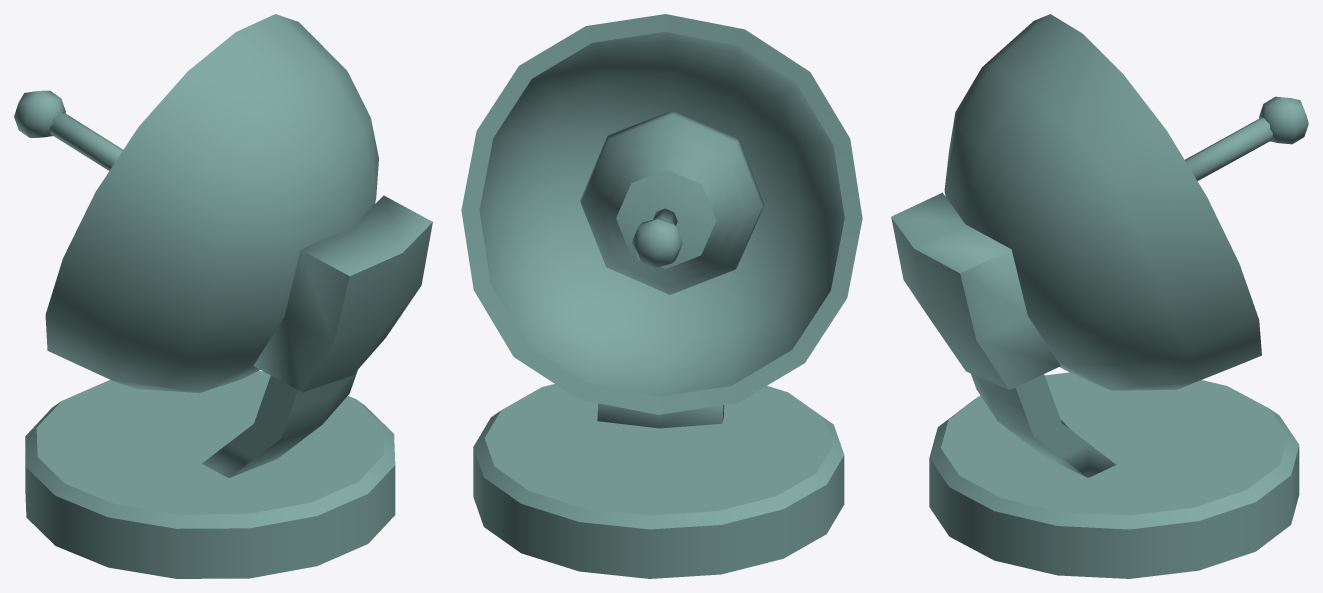
Rendered from satellite.fbx.
3 views of the same model, side by side, from view 1: azimuth 30°, elevation 25°; view 2: azimuth 150°, elevation 25°; view 3: azimuth 270°, elevation 25° (orthographic).
Visible parts, largest first — view 1: satellite; view 2: satellite; view 3: satellite.
Boxes of the visible parts, left/top/right/bottom form: satellite: left=14, top=14, right=432, bottom=578; satellite: left=461, top=14, right=862, bottom=578; satellite: left=891, top=14, right=1308, bottom=578.
Bounding box in the file's own units: 854 × 1148 × 921.
